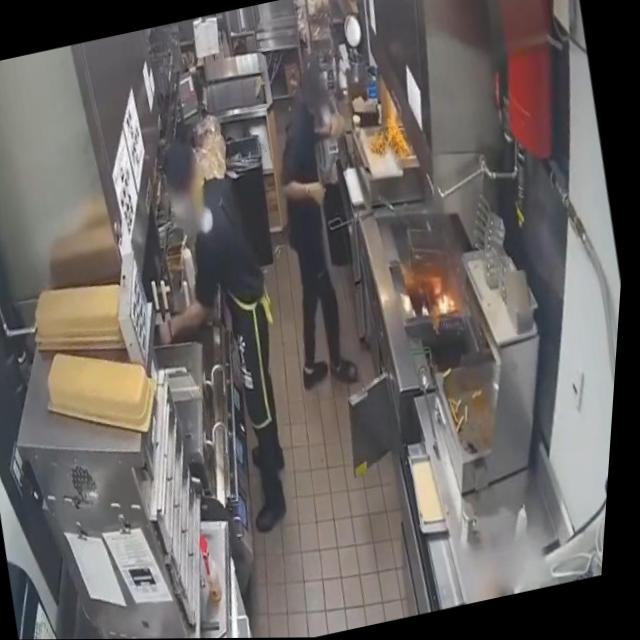fire: (422, 287, 465, 319)
